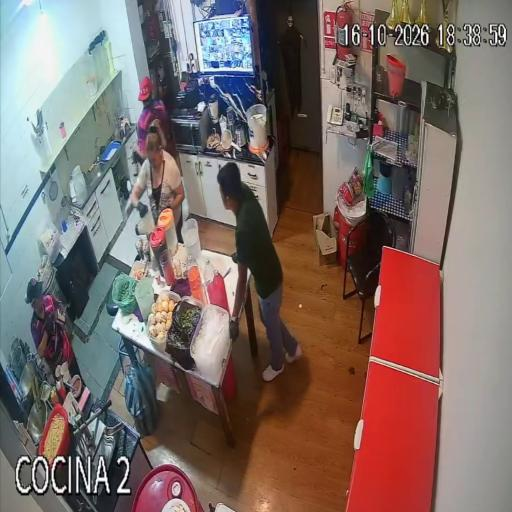Balde: (247, 104, 267, 151)
Envase Llajua: (70, 375, 82, 399)
Jarra1: (149, 227, 167, 276)
Jarra2: (158, 209, 178, 256)
Jarra3: (135, 278, 154, 321), (182, 218, 201, 260), (69, 166, 87, 204)
Licuadora: (207, 92, 222, 134)
Licuadora2: (234, 122, 247, 147)
Microondas: (170, 109, 210, 152)
Persona1: (134, 77, 173, 161)
Persona2: (129, 124, 184, 243)
Persona3: (217, 162, 302, 381)
Persona5: (26, 279, 74, 368)
Taper: (130, 261, 147, 281)
Taper2: (146, 291, 181, 352)
Taper3: (166, 298, 202, 369)
Taper4: (190, 304, 231, 382)
